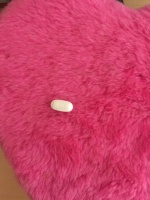Centik Buskopan: (50, 99, 74, 113)
